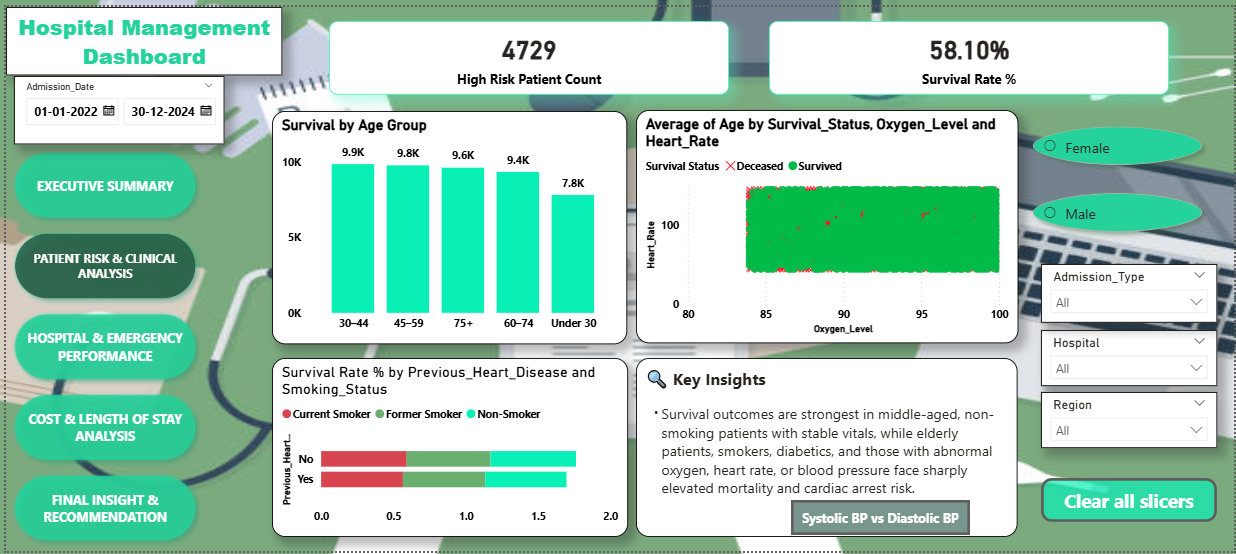

Layout of this report page (visuals, bound fields, positions):
{"tool":"powerbi","page":{"name":"PATIENT RISK & CLINICAL ANALYSIS","canvas":[1400,620],"ordinal":2},"visuals":[{"type":"pageNavigator","box":[1.1,157.8,224.4,462.2],"z":0},{"type":"textbox","box":[0,0,315,78.4],"z":1000},{"type":"slicer","fields":{"Values":["cardiac_arrest_prediction_data.Hospital"]},"box":[1180.2,367.7,200.6,64.3],"z":2000},{"type":"slicer","fields":{"Values":["cardiac_arrest_prediction_data.Admission_Type"]},"box":[1180.2,293.1,200.6,66.9],"z":3000},{"type":"slicer","fields":{"Values":["cardiac_arrest_prediction_data.Admission_Date"]},"box":[9,78.4,240.4,78.4],"z":4000},{"type":"advancedSlicerVisual","fields":{"Values":["cardiac_arrest_prediction_data.Gender"]},"box":[1153.6,99.5,227.1,194.5],"z":5000},{"type":"slicer","fields":{"Values":["cardiac_arrest_prediction_data.Region"]},"box":[1180.2,438.4,200.6,64.3],"z":6000},{"type":"card","fields":{"Values":["cardiac_arrest_prediction_data.High Risk Patient Count"]},"box":[367.7,15.4,456.4,83.6],"z":7000},{"type":"card","fields":{"Values":["cardiac_arrest_prediction_data.Survival Rate %"]},"box":[870.3,15.4,456.4,83.6],"z":8000},{"type":"columnChart","title":"Survival by Age Group","fields":{"Category":["cardiac_arrest_prediction_data.Age Group"],"Y":["cardiac_arrest_prediction_data.Survived Count"]},"box":[303.4,118.3,405,266.1],"z":9000},{"type":"barChart","fields":{"Category":["cardiac_arrest_prediction_data.Diabetes","cardiac_arrest_prediction_data.Previous_Heart_Disease"],"Y":["cardiac_arrest_prediction_data.Survival Rate %"],"Series":["cardiac_arrest_prediction_data.Smoking_Status"]},"box":[303.4,400,405.6,204.5],"z":10000},{"type":"scatterChart","fields":{"X":["cardiac_arrest_prediction_data.Oxygen_Level"],"Y":["cardiac_arrest_prediction_data.Heart_Rate"],"Series":["cardiac_arrest_prediction_data.Survival_Status"]},"box":[718,118,436,266.3],"z":11000},{"type":"actionButton","box":[1180.2,537.4,200.6,50.1],"z":12000},{"type":"textbox","box":[718.6,399.8,434.5,204.4],"z":13000},{"type":"actionButton","box":[895,562.1,204.1,39.9],"z":14000}]}

Visuals, with their boxes in screenshot pixels (x1, y1, x2, y2), scaled from the page's 1400x620 canvas onto the 1236x554 screenshot:
pageNavigator: region(1, 141, 199, 553)
textbox: region(0, 0, 278, 70)
slicer - cardiac_arrest_prediction_data.Hospital: region(1042, 329, 1219, 386)
slicer - cardiac_arrest_prediction_data.Admission_Type: region(1042, 262, 1219, 322)
slicer - cardiac_arrest_prediction_data.Admission_Date: region(8, 70, 220, 140)
advancedSlicerVisual - cardiac_arrest_prediction_data.Gender: region(1018, 89, 1219, 263)
slicer - cardiac_arrest_prediction_data.Region: region(1042, 392, 1219, 449)
card - cardiac_arrest_prediction_data.High Risk Patient Count: region(325, 14, 728, 88)
card - cardiac_arrest_prediction_data.Survival Rate %: region(768, 14, 1171, 88)
"Survival by Age Group" columnChart: region(268, 106, 625, 343)
barChart - cardiac_arrest_prediction_data.Diabetes x cardiac_arrest_prediction_data.Previous_Heart_Disease: region(268, 357, 626, 540)
scatterChart - cardiac_arrest_prediction_data.Oxygen_Level x cardiac_arrest_prediction_data.Heart_Rate: region(634, 105, 1019, 343)
actionButton: region(1042, 480, 1219, 525)
textbox: region(634, 357, 1018, 540)
actionButton: region(790, 502, 970, 538)
